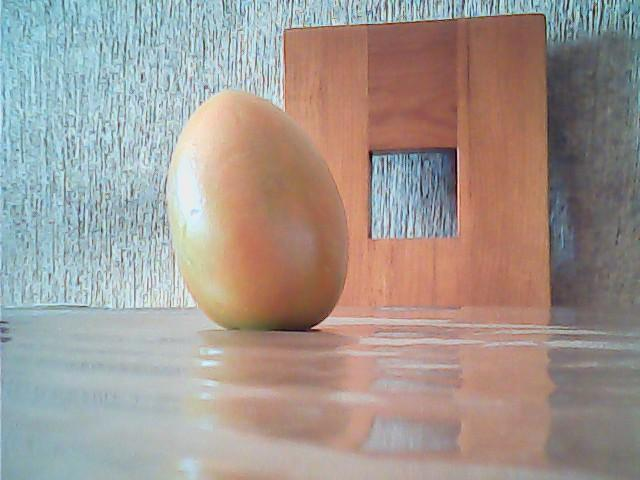verde: (163, 87, 350, 328)
